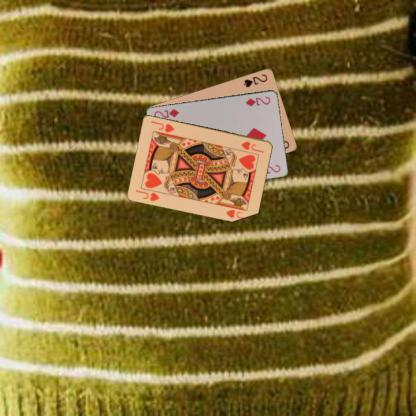2d: (243, 94, 272, 108)
2s: (241, 71, 269, 88)
Jh: (238, 139, 264, 154), (134, 187, 160, 202)
